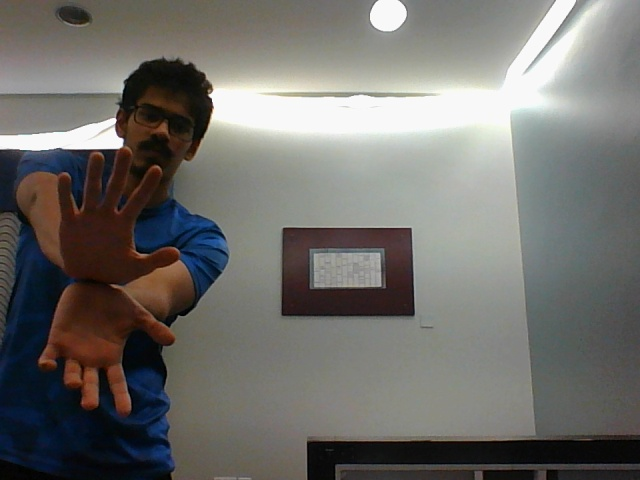blast: (30, 150, 182, 415)
